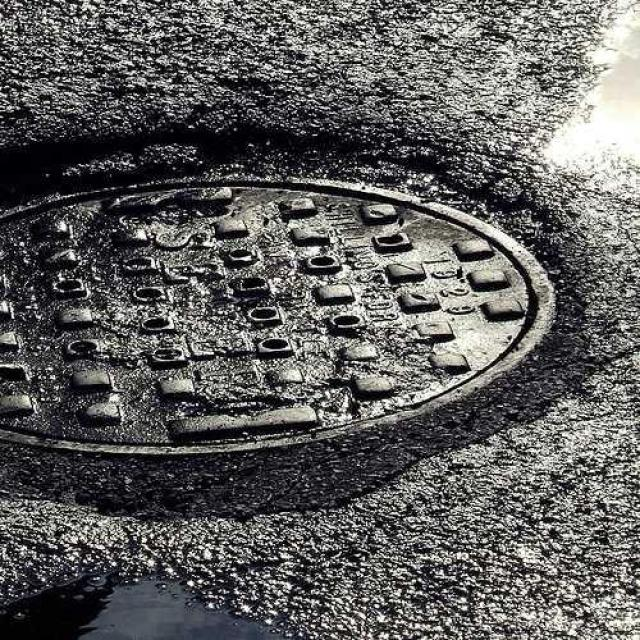manhole: (0, 170, 557, 479)
